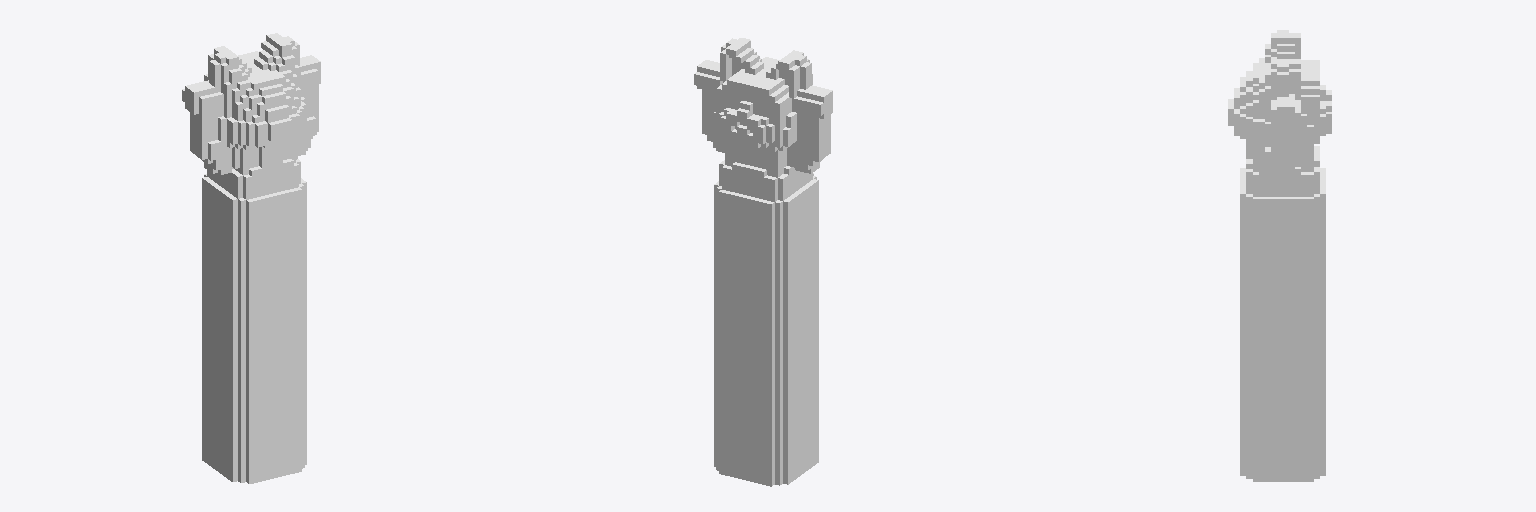
File: lightCat.obj
3 views of the same model, side by side, from view 1: azimuth 30°, elevation 25°; view 2: azimuth 150°, elevation 25°; view 3: azimuth 270°, elevation 25° (orthographic).
Parts seen in each view (by area): view 1: object 1; view 2: object 1; view 3: object 1.
Boxes of the visible parts, x1=… form: object 1: x1=182, y1=33, x2=320, y2=483; object 1: x1=694, y1=38, x2=832, y2=486; object 1: x1=1228, y1=30, x2=1331, y2=481.
Size of the model in its own units: 2.4 by 7.5 by 1.7.